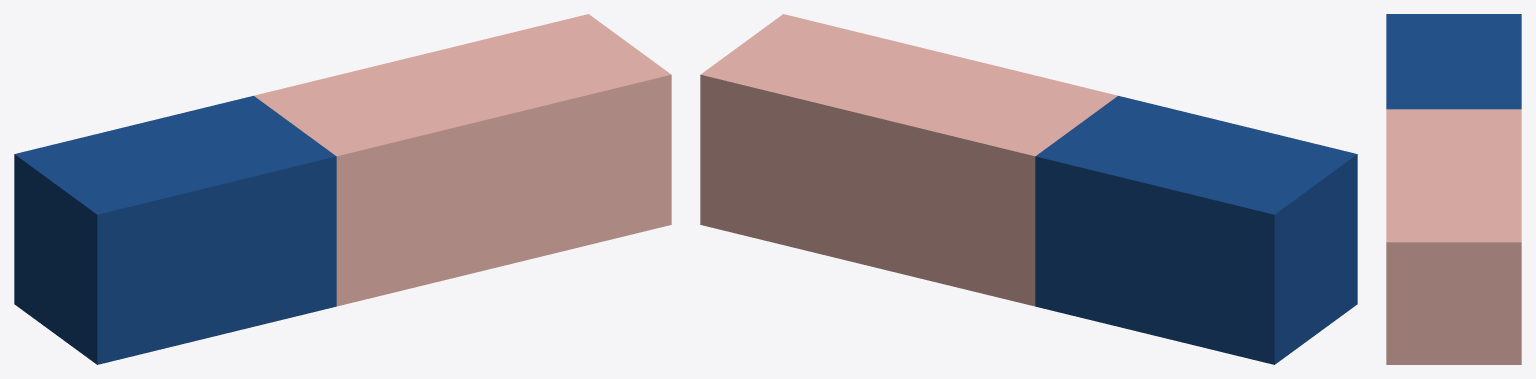
File: john_doe_arm.dae
The picture shows the model from 3 angles, left to right: view 1: azimuth 30°, elevation 25°; view 2: azimuth 150°, elevation 25°; view 3: azimuth 270°, elevation 25°; orthographic projection. The views are drawn at different scales.
Parts seen in each view (by area): view 1: PlaneCOL; view 2: PlaneCOL; view 3: PlaneCOL.
Part boxes in pixels (x1=…): PlaneCOL: x1=14, y1=14, x2=671, y2=364; PlaneCOL: x1=700, y1=14, x2=1357, y2=364; PlaneCOL: x1=1386, y1=14, x2=1521, y2=364.
Size of the model in its own units: 1.2 by 0.3 by 0.3.
